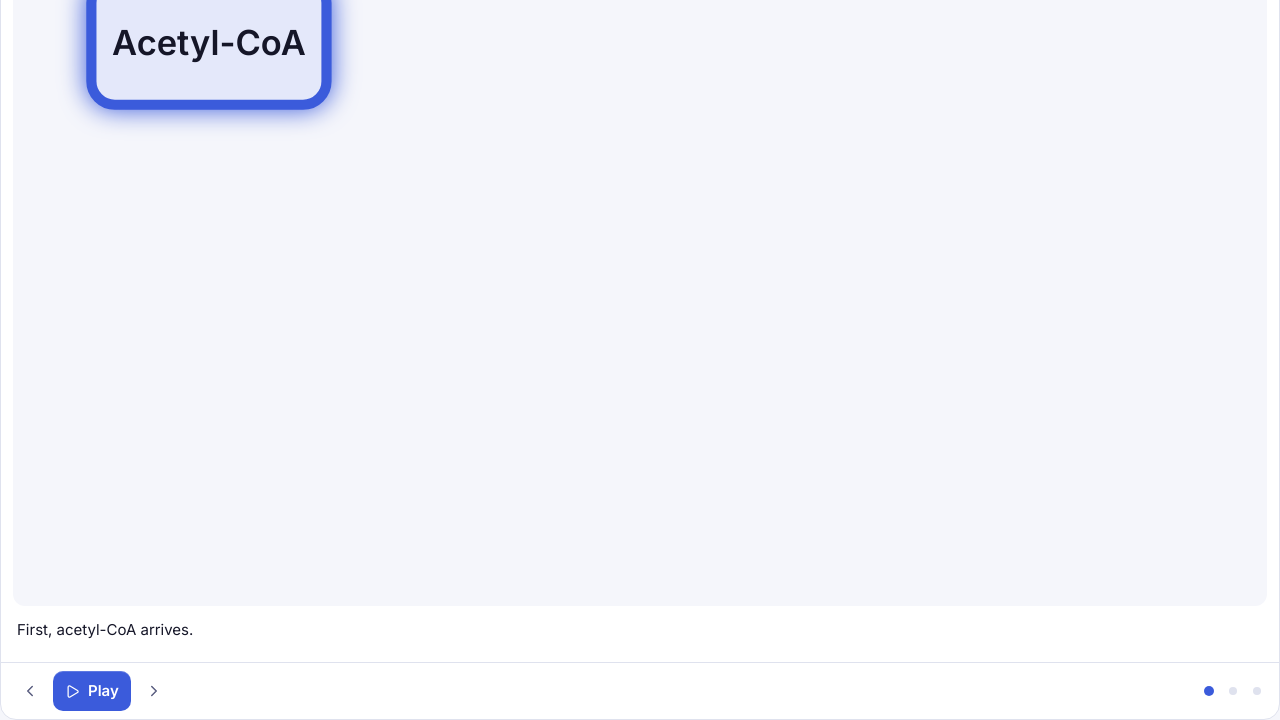
the lesson player › a step with no voice stays for as long as it takes to read, then goes on
(page scrolled)
Click the button "Play" at (92, 691), box [53,671,131,711]
Wait 2600 ms
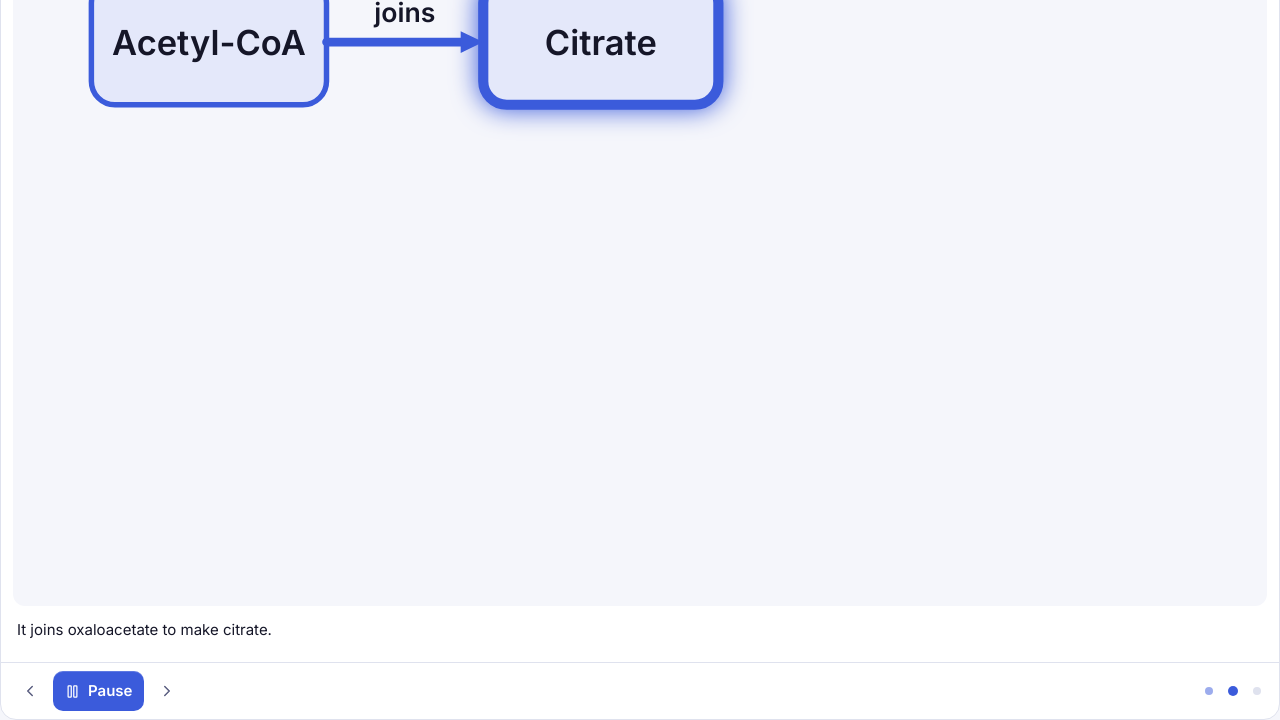
Now the text "It joins oxaloacetate to make citrate." is shown, box [17,620,272,639]
